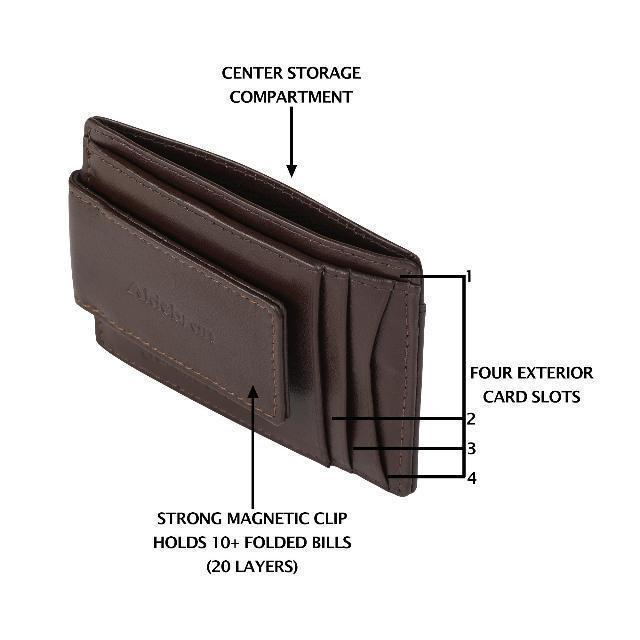wallet: (61, 111, 435, 501)
